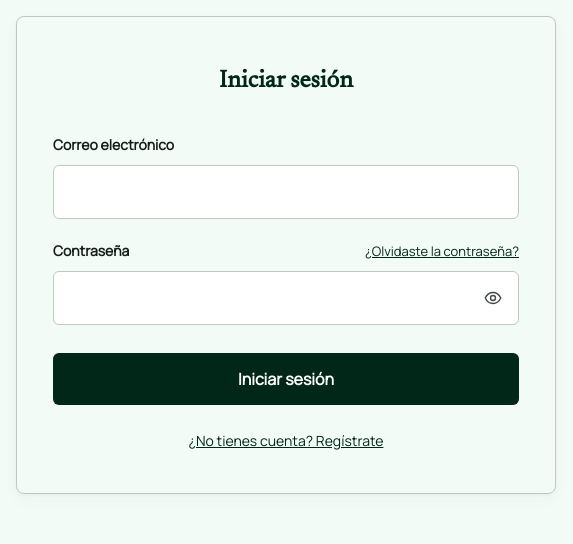
Test: Login Page › validates email format on client
This screenshot has width=573, height=544.
Type "correo-invalido" into the field labelled "Correo electrónico" at (286, 192), box [53,165,519,219]
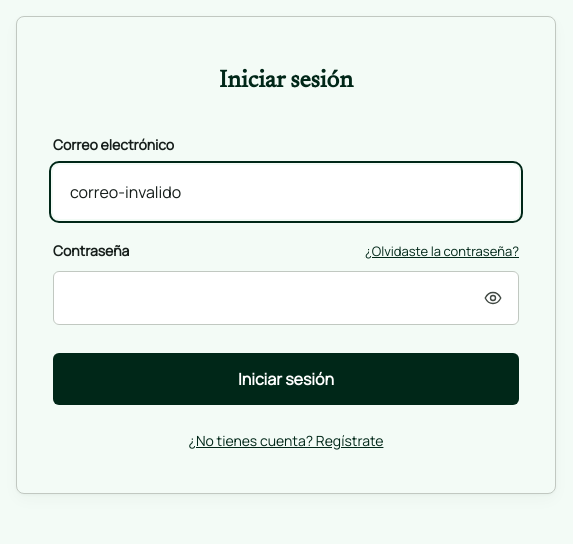
Type "Password123!" into the password field labelled "Contraseña" at (286, 298), box [53,271,519,325]
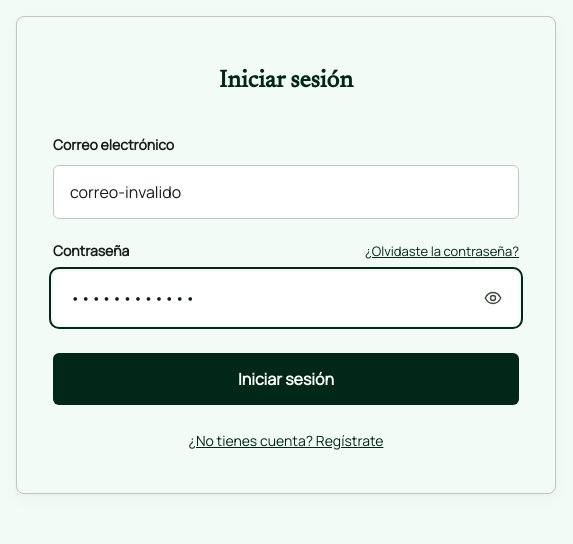
Click the button "Iniciar sesión" at (286, 379), box [53,353,519,405]
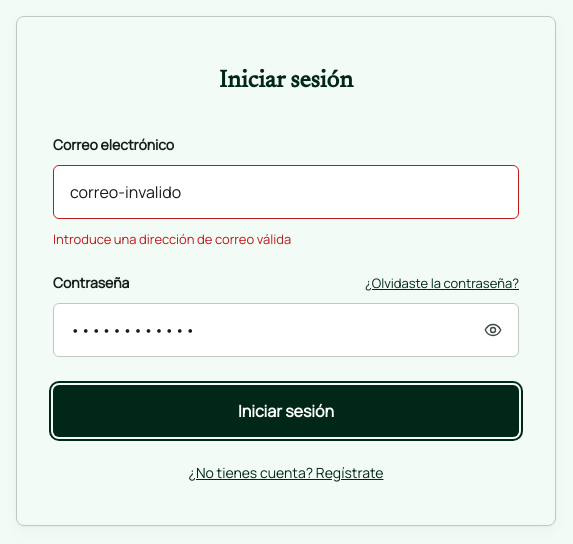
Expected: the text "Introduce una dirección de correo válida" is shown, [53,230,291,248]
